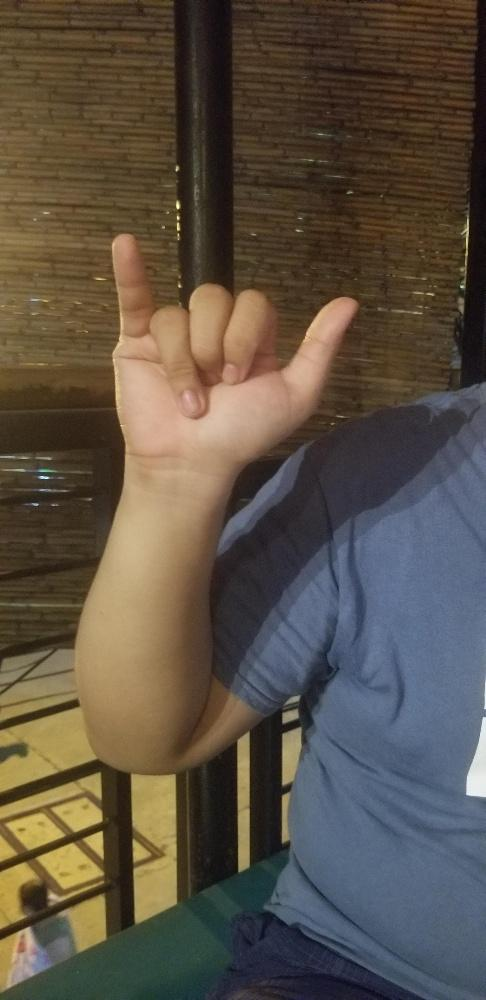y: (111, 230, 358, 462)
